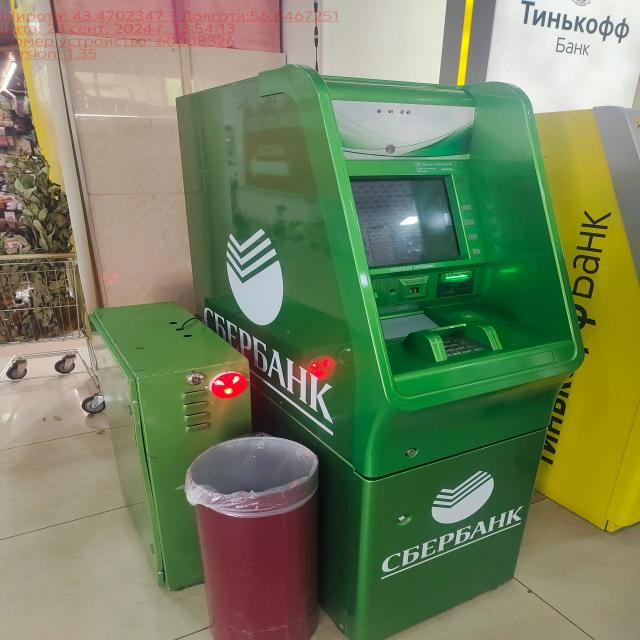bank: (168, 69, 580, 640)
